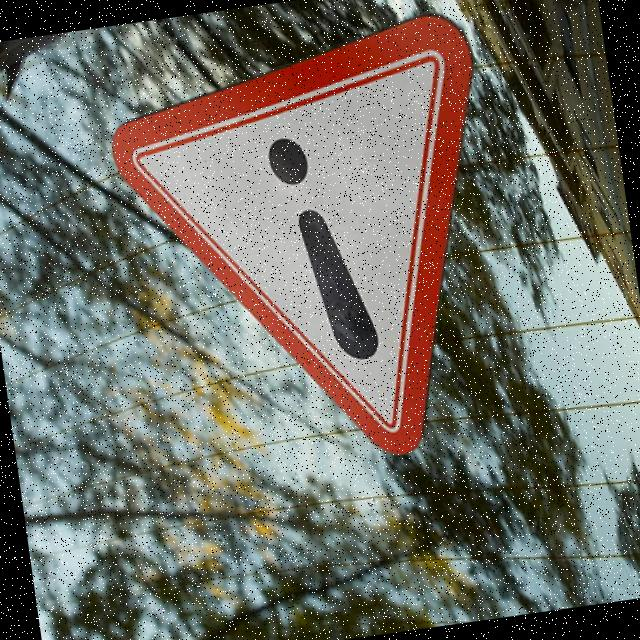warning: (102, 9, 520, 504)
